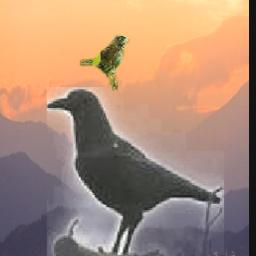Crow: (47, 87, 224, 256)
Sparrow: (80, 34, 129, 90)
